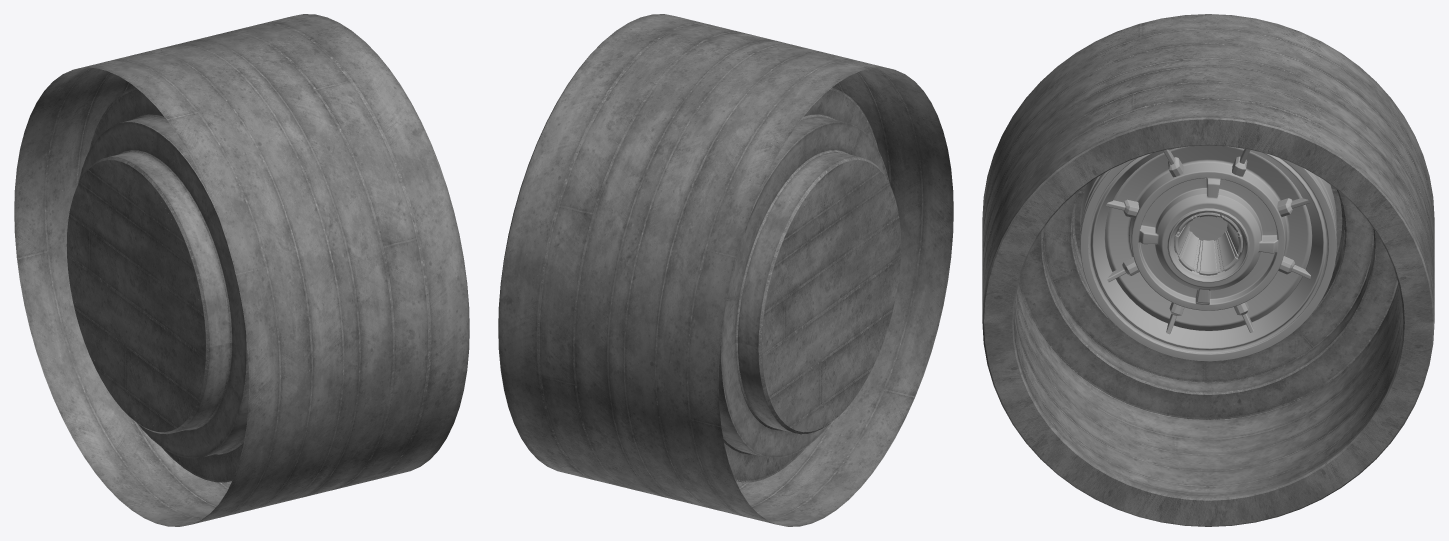
The model's file is SM_Wall_Vent_01.fbx.
3 views of the same model, side by side, from view 1: azimuth 30°, elevation 25°; view 2: azimuth 150°, elevation 25°; view 3: azimuth 270°, elevation 25° (orthographic). The views are drawn at different scales.
Visible parts, largest first — view 1: SM_Wall_Vent_01; view 2: SM_Wall_Vent_01; view 3: SM_Wall_Vent_01.
Boxes of the visible parts, left/top/right/bottom form: SM_Wall_Vent_01: left=14, top=14, right=469, bottom=526; SM_Wall_Vent_01: left=498, top=14, right=953, bottom=526; SM_Wall_Vent_01: left=982, top=14, right=1434, bottom=526.
Bounding box in the file's own units: 96.73 × 178 × 178.
